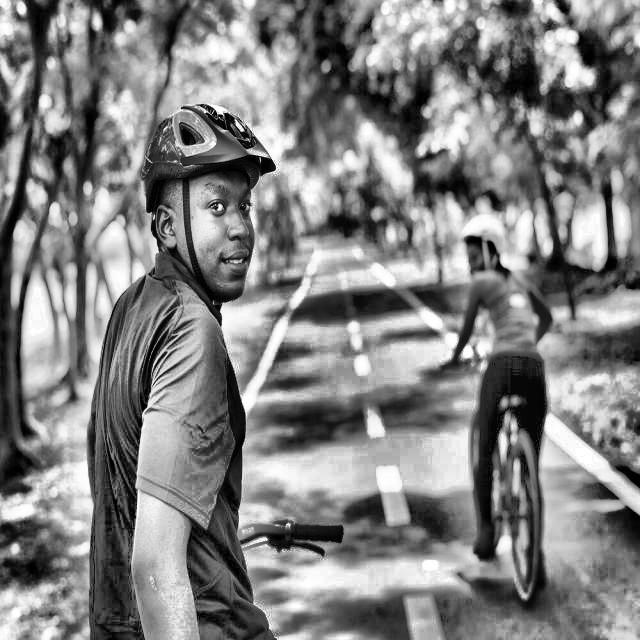Helmet: (136, 96, 278, 312), (444, 208, 535, 282)
